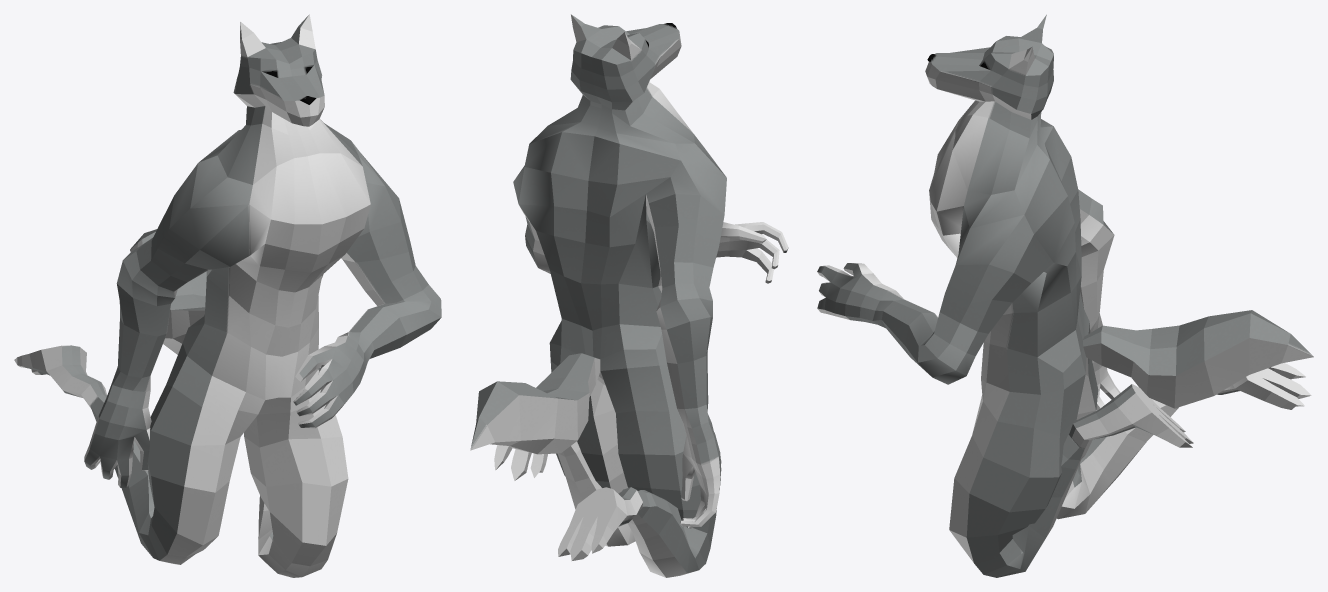
Rendered from WolfDead(44).obj.
The picture shows the model from 3 angles, left to right: view 1: azimuth 30°, elevation 25°; view 2: azimuth 150°, elevation 25°; view 3: azimuth 270°, elevation 25°; orthographic projection.
Parts seen in each view (by area): view 1: Box001; view 2: Box001; view 3: Box001.
Part boxes in pixels (x1=…): Box001: x1=14, y1=14, x2=441, y2=577; Box001: x1=470, y1=14, x2=788, y2=577; Box001: x1=817, y1=14, x2=1313, y2=577.
Bounding box in the file's own units: 63.38 × 122 × 101.
